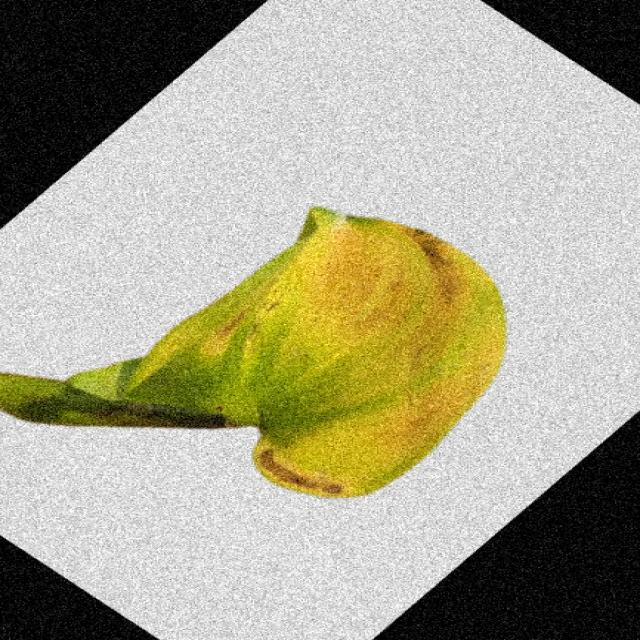daun berpenyakit kuning: (2, 208, 505, 497)
